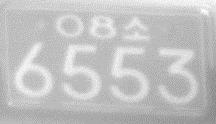0: (55, 14, 84, 38)
3: (156, 46, 197, 104)
5: (60, 43, 102, 99), (109, 45, 149, 103)
6: (14, 41, 53, 97)
8: (88, 14, 115, 39)
소: (123, 15, 150, 41)
